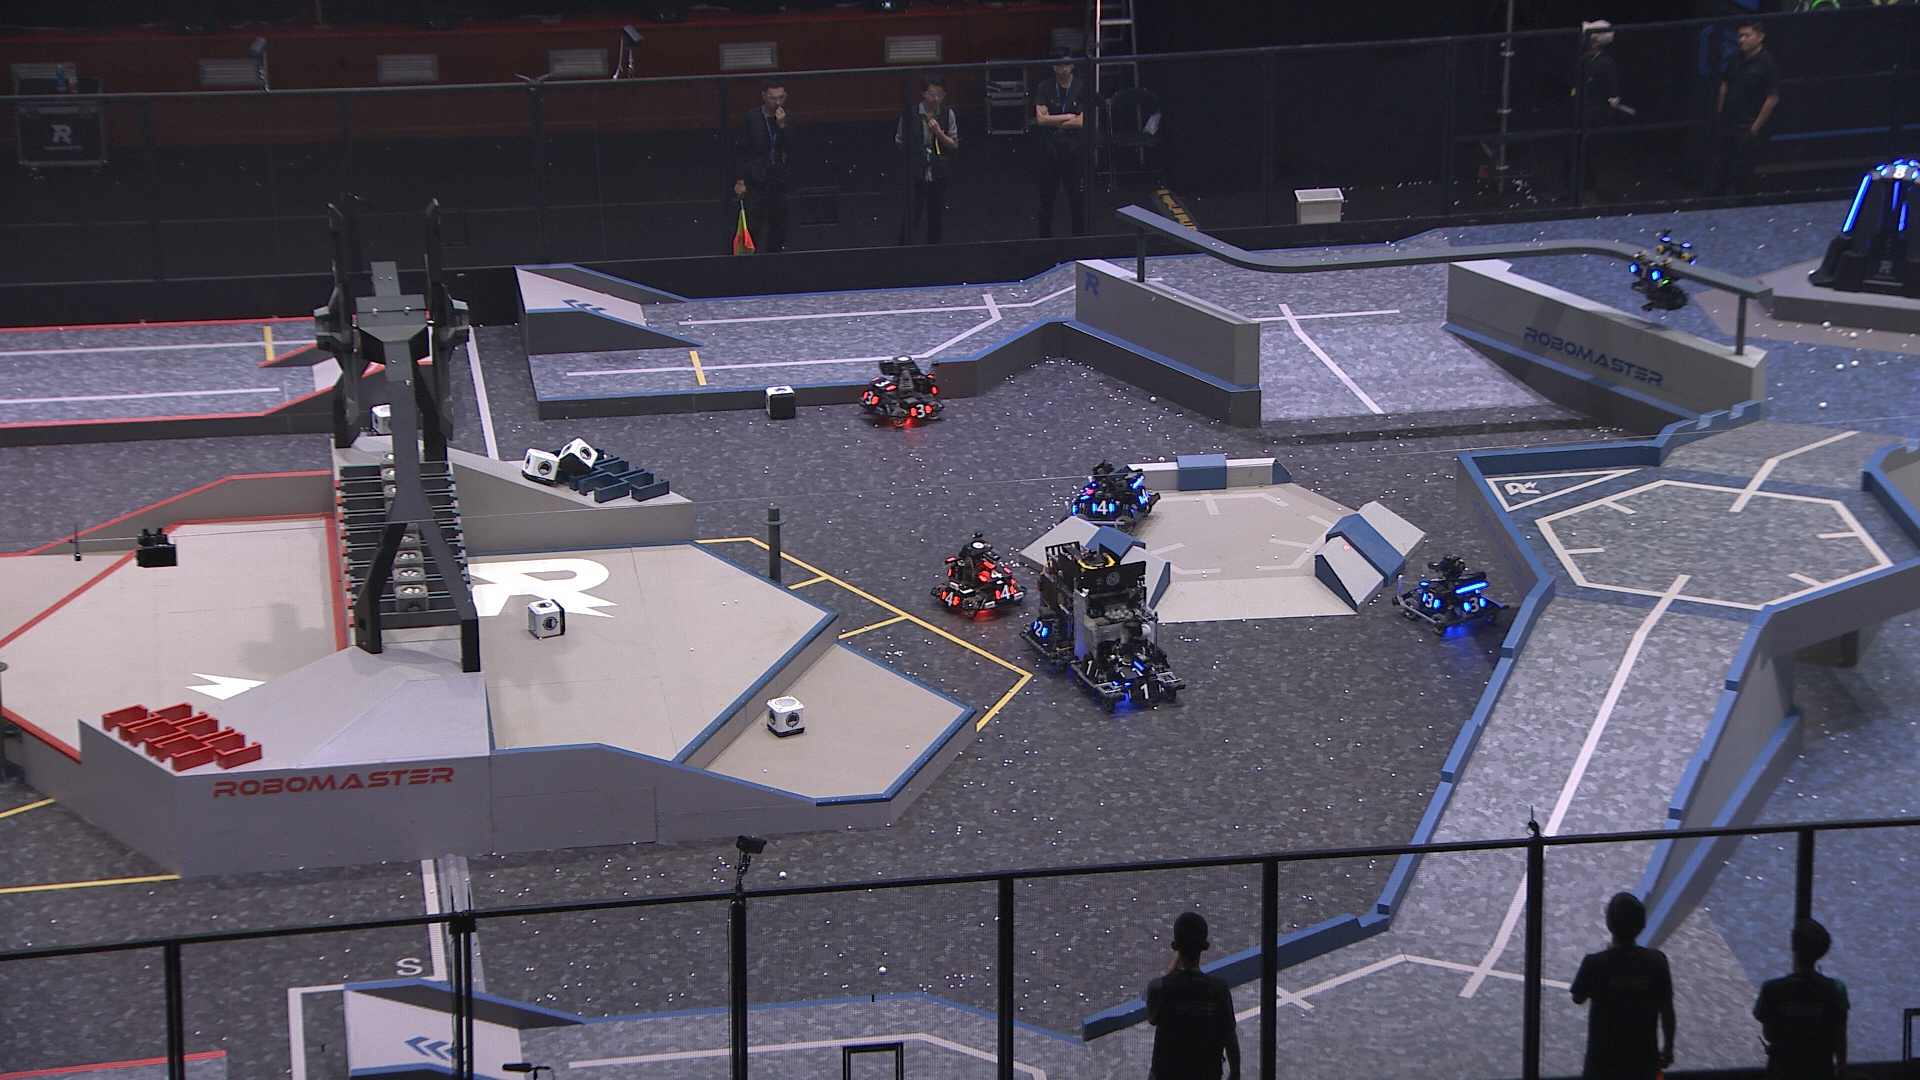armor: (1841, 173, 1873, 233), (1127, 678, 1162, 702), (1629, 258, 1660, 282), (1876, 164, 1920, 179), (1117, 665, 1154, 679), (981, 566, 1013, 582), (1079, 657, 1100, 679), (1462, 593, 1485, 615), (1420, 589, 1439, 615), (1091, 498, 1114, 517), (1031, 618, 1048, 641), (938, 591, 961, 607), (992, 584, 1015, 600), (860, 389, 880, 406), (910, 404, 931, 419), (1077, 483, 1093, 504), (872, 376, 894, 390), (1890, 181, 1902, 206), (1138, 488, 1150, 506), (1427, 572, 1443, 585)
base: (1809, 157, 1920, 297)
car: (1069, 556, 1185, 713), (1021, 541, 1120, 673), (1396, 551, 1509, 640), (924, 538, 1027, 618), (1067, 460, 1163, 535), (855, 352, 945, 427)
watcher: (1629, 233, 1698, 309)
